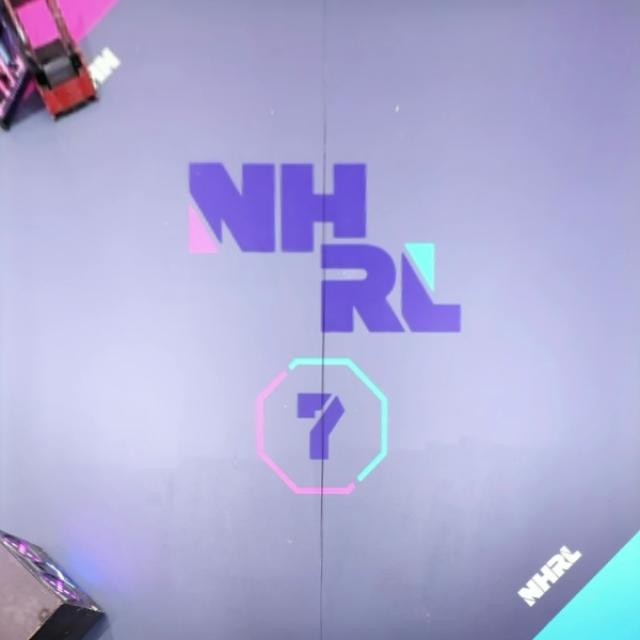housebot: (0, 530, 110, 640)
robot: (27, 0, 99, 122), (0, 1, 40, 129)
